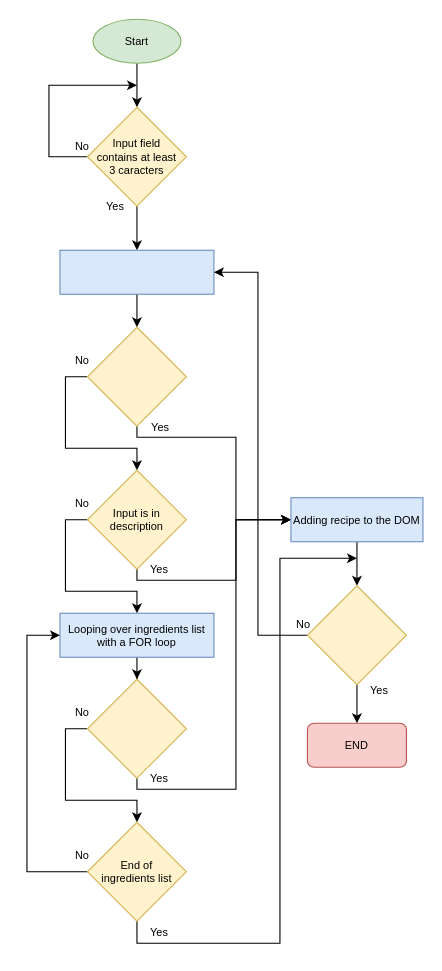
This 442x971 diagram has some shape labels left out. The centre of each missing label's shape, as x and y in pixels:
"End of recipes list" belongs at (356,635).
"Input is in ingredient" belongs at (136,728).
"Input is in title" belongs at (136,376).
"Looping over recipes with a FOR loop" belongs at (136,271).
